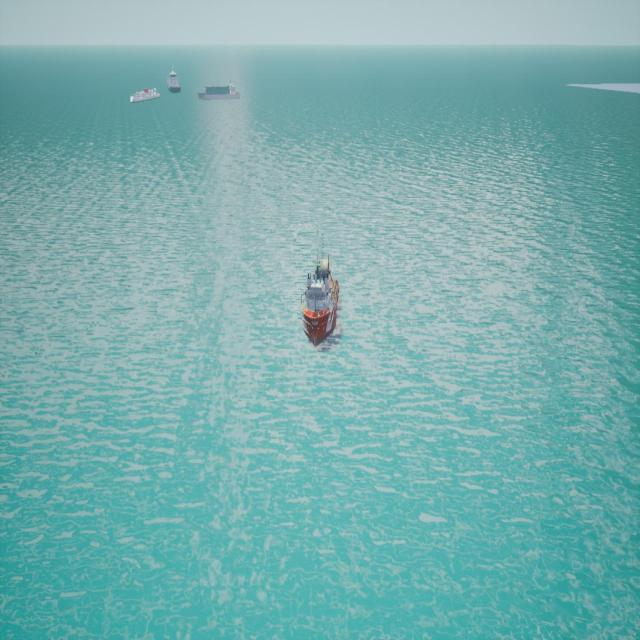tug boat: (301, 258, 340, 349)
